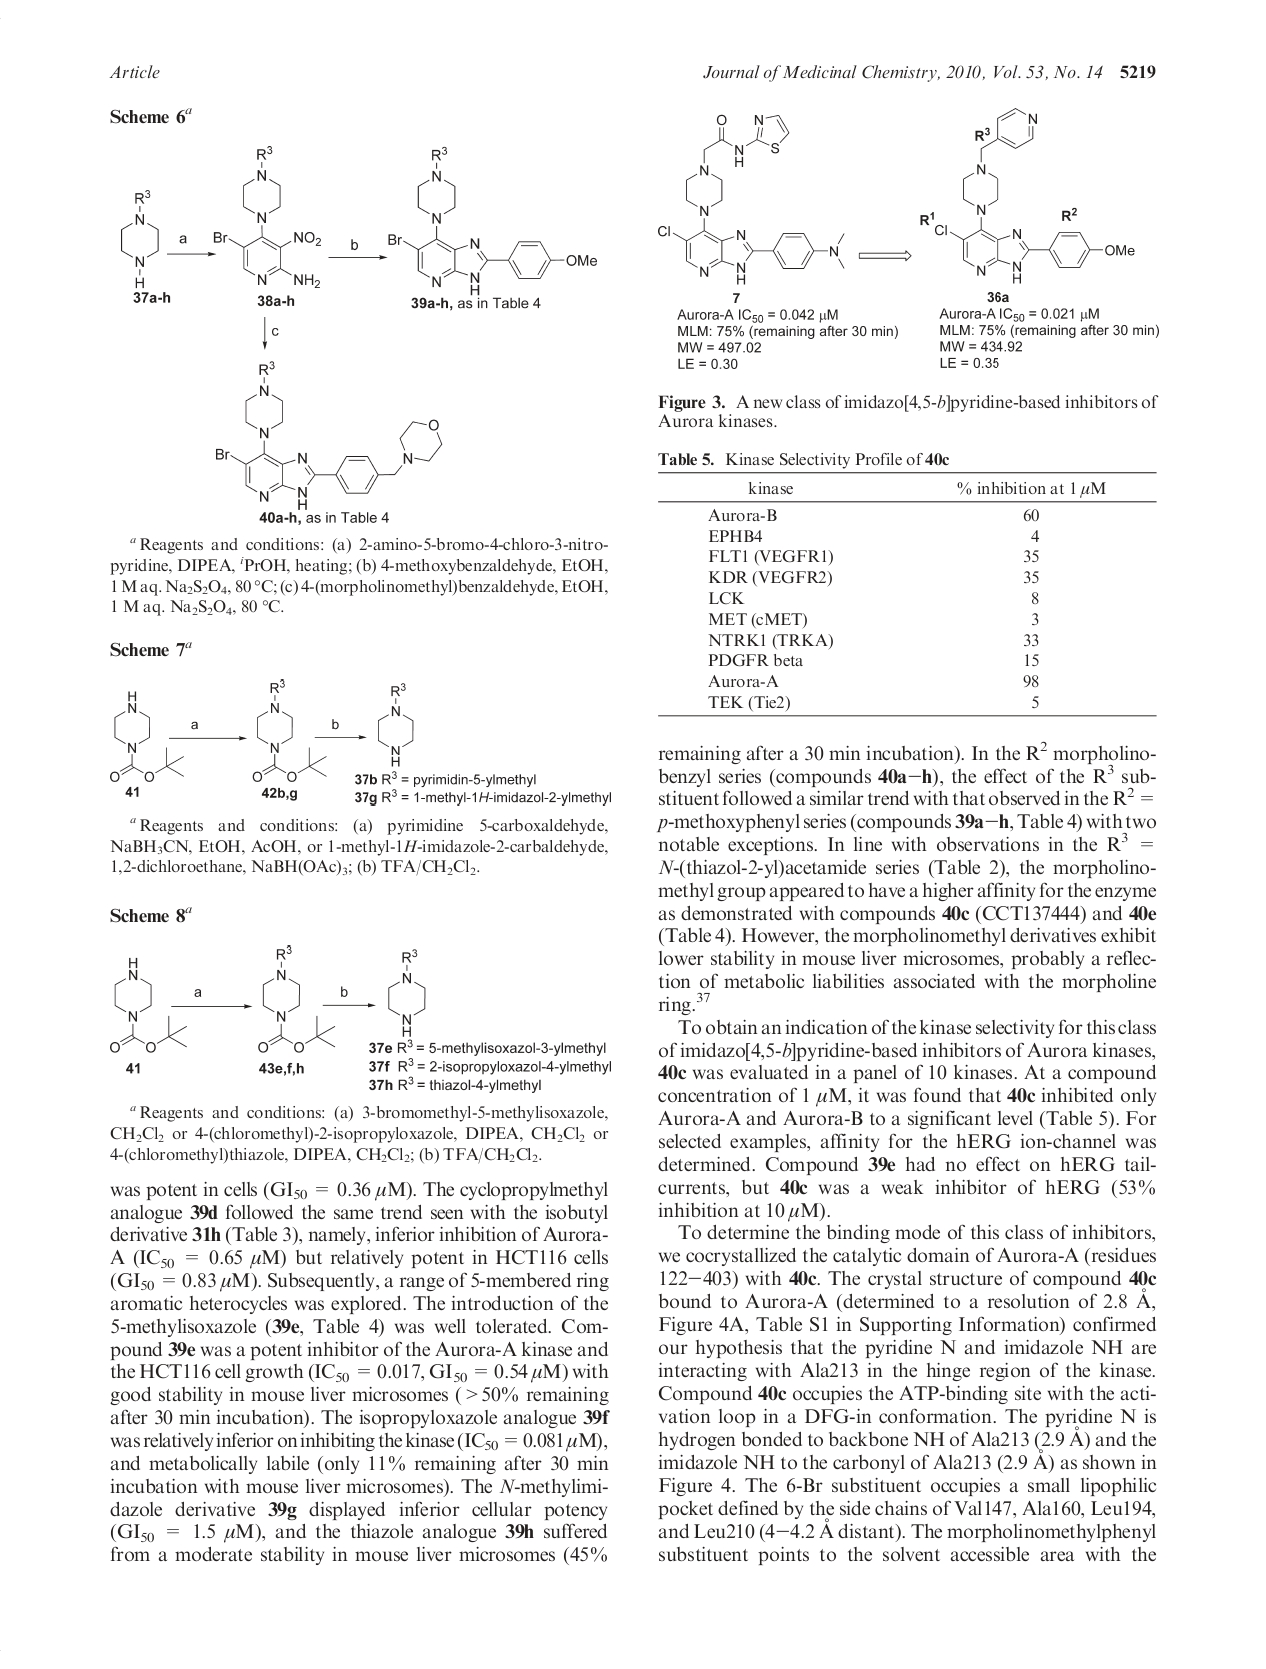exist_molecular: (918, 106, 1137, 285), (214, 358, 444, 512), (657, 110, 846, 286), (386, 144, 600, 297), (211, 144, 322, 290), (257, 944, 338, 1055), (251, 678, 328, 785), (106, 955, 188, 1055), (106, 688, 188, 782), (118, 188, 160, 290), (386, 946, 426, 1040), (375, 681, 418, 767)
